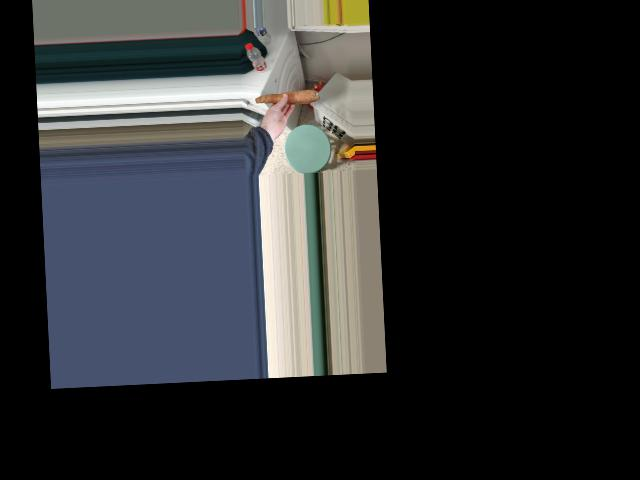sweet_potato: (253, 88, 318, 111)
